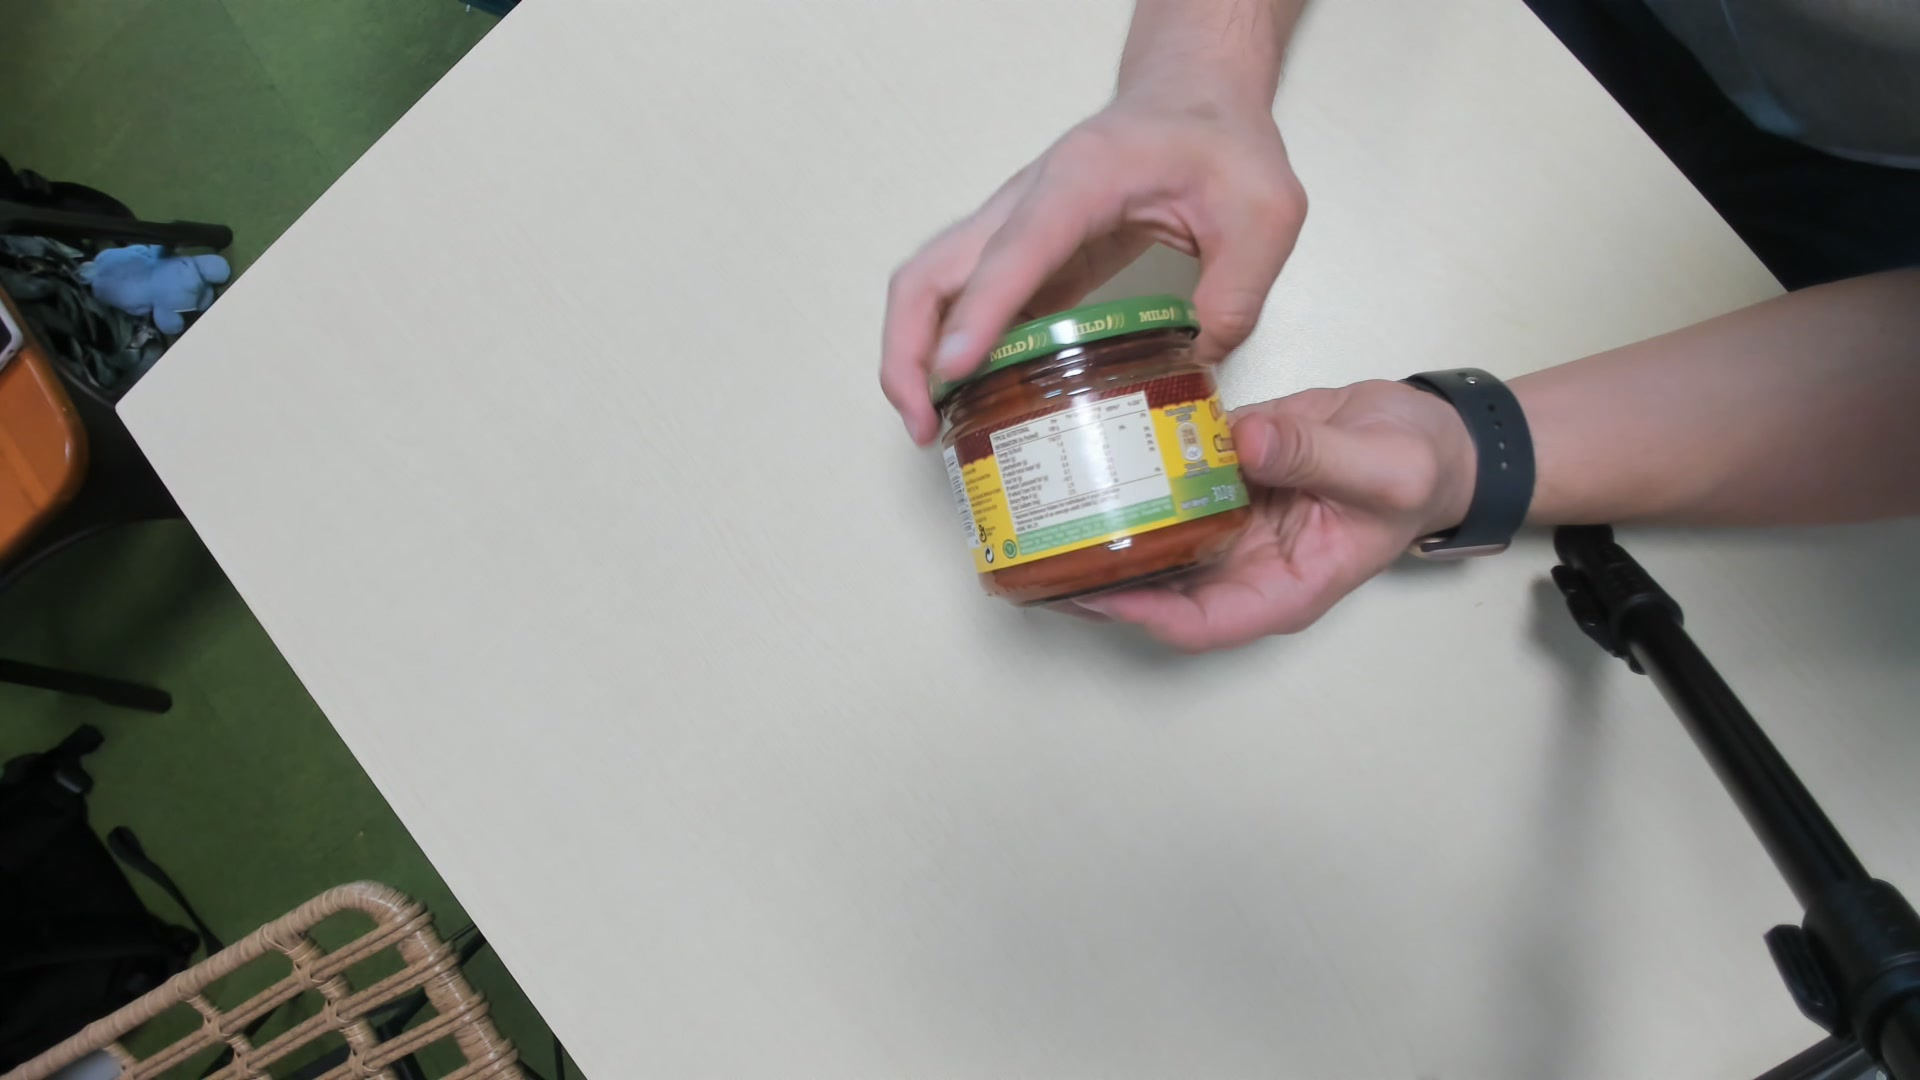OtherSauceDressing_300-399g_NonHalal_NonHealthy: (924, 301, 1251, 615)
